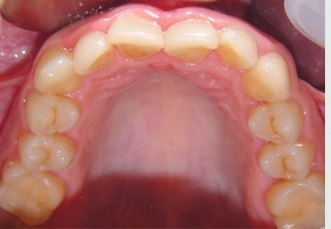UL1BC_healthy: (248, 101, 303, 142)
UL1M_healthy: (267, 176, 324, 229)
UL2BC_healthy: (260, 143, 312, 179)
ULCI_healthy: (165, 20, 218, 60)
ULC_healthy: (244, 56, 290, 101)
ULLI_healthy: (220, 26, 258, 68)
UR1BC_healthy: (26, 93, 79, 134)
UR1M_healthy: (2, 165, 64, 224)
UR2BC_healthy: (20, 135, 74, 171)
URCI_healthy: (108, 17, 163, 56)
URC_healthy: (35, 48, 80, 92)
URLI_healthy: (72, 31, 109, 74)
